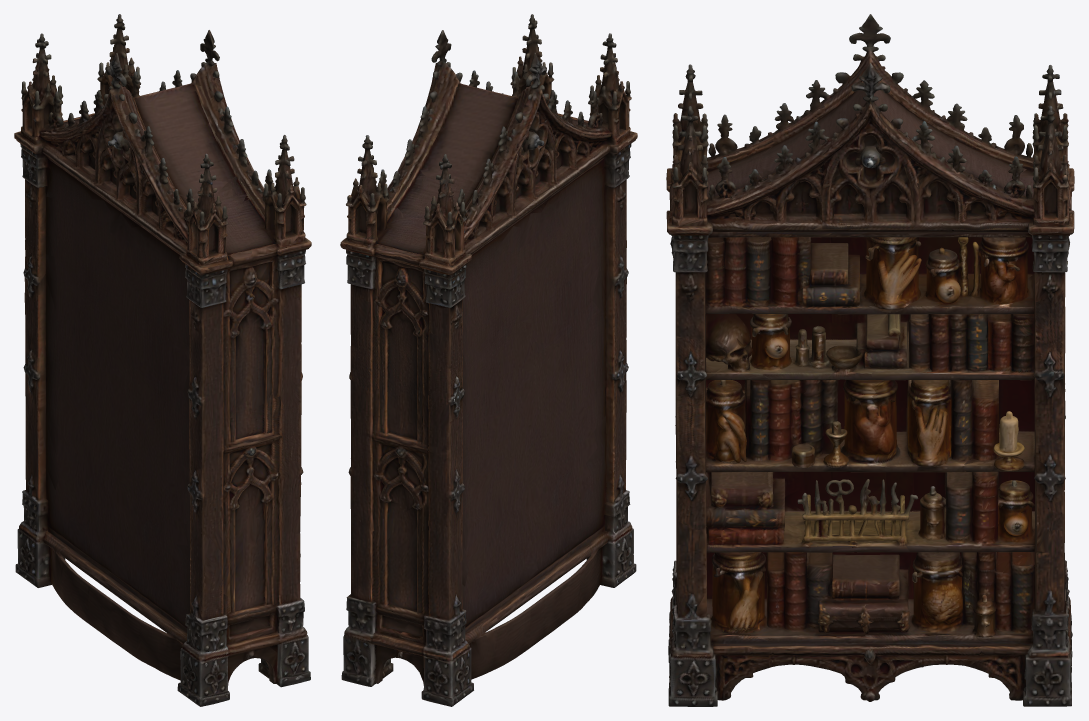
The model's file is raw_shelf_specimens.glb.
The picture shows the model from 3 angles, left to right: view 1: azimuth 30°, elevation 25°; view 2: azimuth 150°, elevation 25°; view 3: azimuth 270°, elevation 25°; orthographic projection. The views are drawn at different scales.
Visible parts, largest first — view 1: shelf_specimens; view 2: shelf_specimens; view 3: shelf_specimens.
Part boxes in pixels (box(x1,y1,x2,y2)): shelf_specimens: box(14, 14, 311, 706); shelf_specimens: box(340, 14, 637, 706); shelf_specimens: box(666, 14, 1074, 706).
Bounding box in the file's own units: 0.2067 × 1 × 0.578.
1 material, 1 textured.
